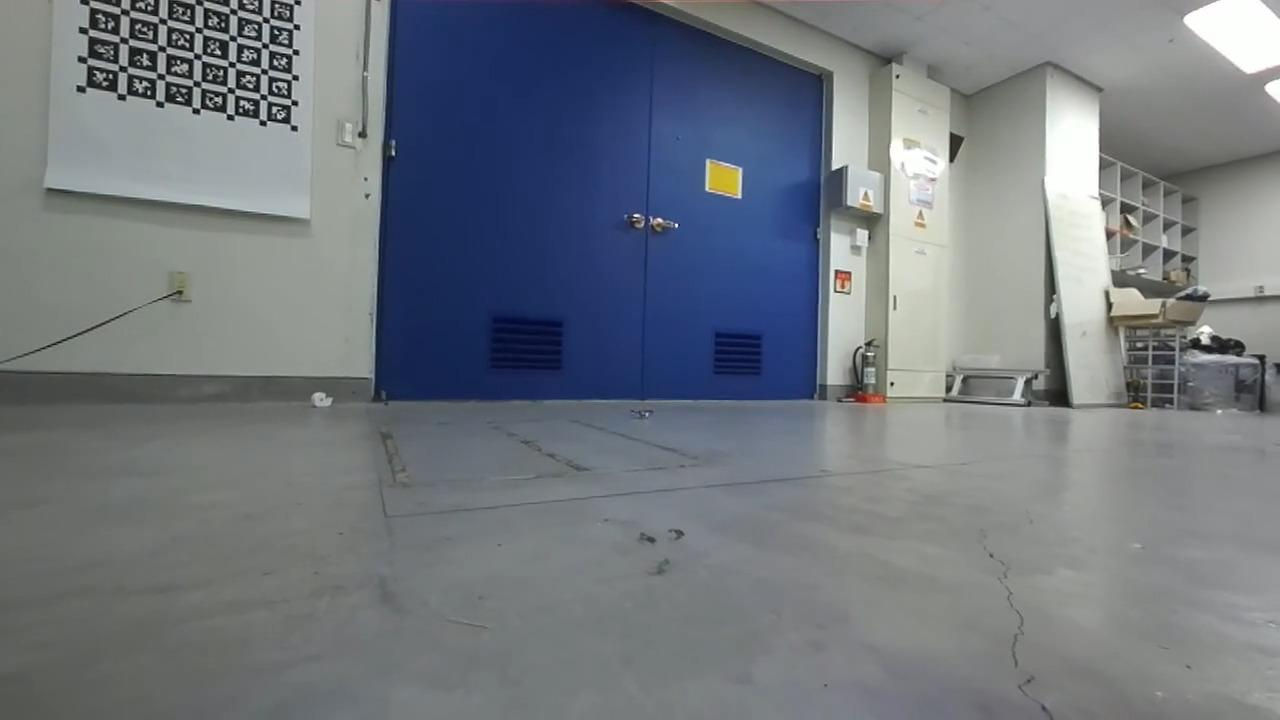crazyflie: (619, 401, 671, 427)
